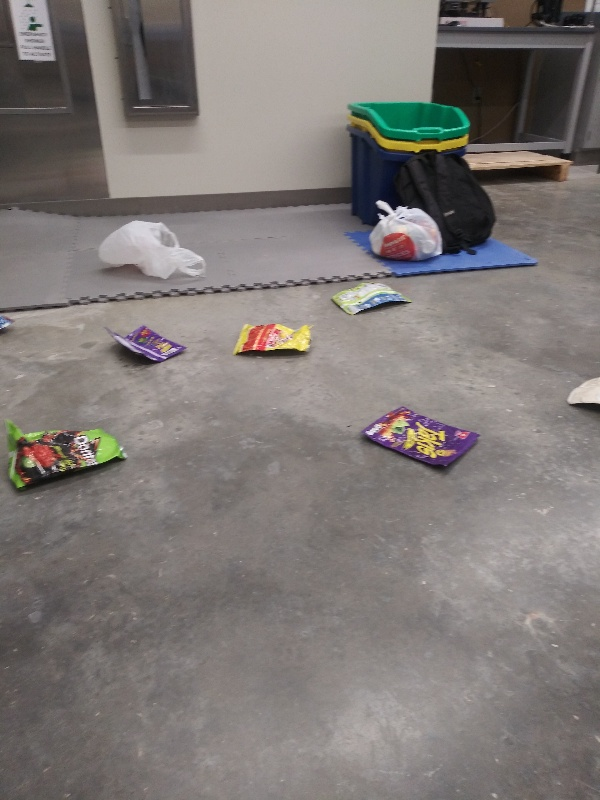bag: (1, 416, 133, 498), (355, 402, 484, 477), (224, 317, 319, 359), (102, 320, 190, 365), (326, 278, 414, 320), (563, 373, 600, 415)
